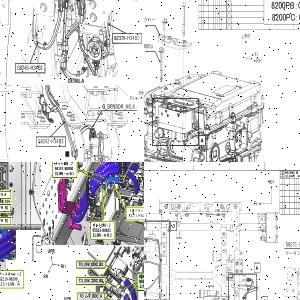PartNumber: (114, 34, 140, 42), (17, 64, 43, 71), (37, 138, 64, 144), (284, 240, 300, 249), (54, 166, 74, 171), (0, 276, 17, 281), (128, 213, 144, 218), (92, 228, 111, 232), (144, 42, 153, 49)
